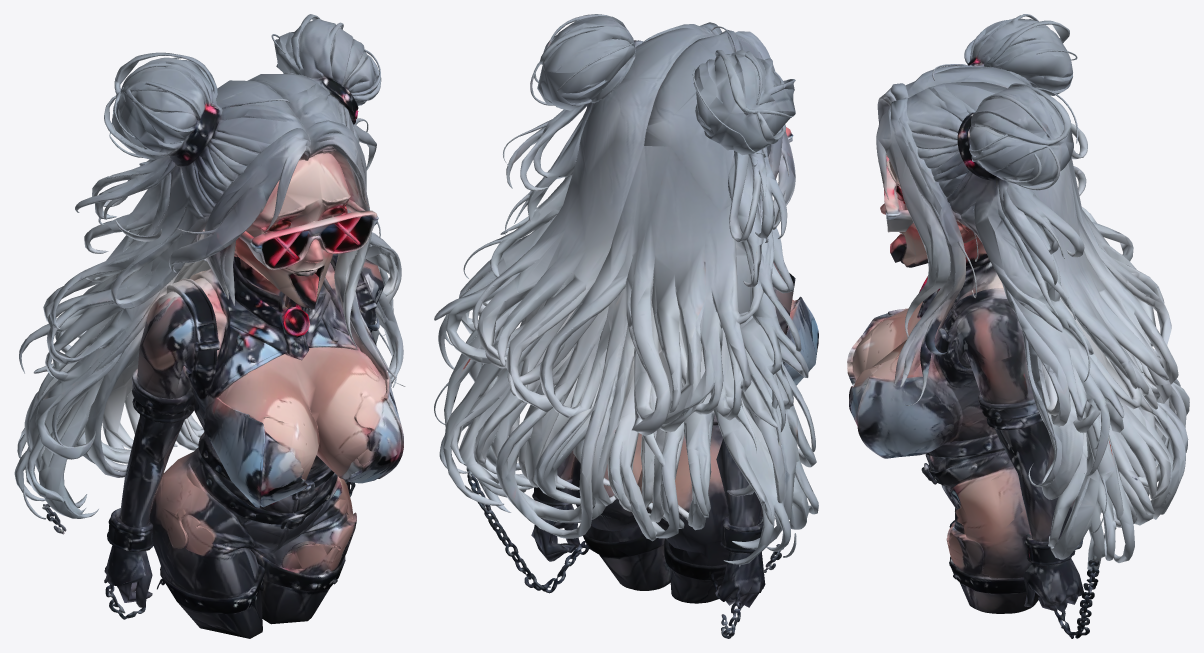
File: 01a19d7b-ab0f-7759-858b-8cd480bcf1d9.glb
The picture shows the model from 3 angles, left to right: view 1: azimuth 30°, elevation 25°; view 2: azimuth 150°, elevation 25°; view 3: azimuth 270°, elevation 25°; orthographic projection. The views are drawn at different scales.
Parts seen in each view (by area): view 1: model; view 2: model; view 3: model.
Boxes of the visible parts, x1=… form: model: x1=14, y1=14, x2=405, y2=638; model: x1=434, y1=14, x2=818, y2=638; model: x1=847, y1=14, x2=1189, y2=638.
Size of the model in its own units: 1.31 by 1.91 by 1.1.
Materials: 1 (1 with a texture image).
